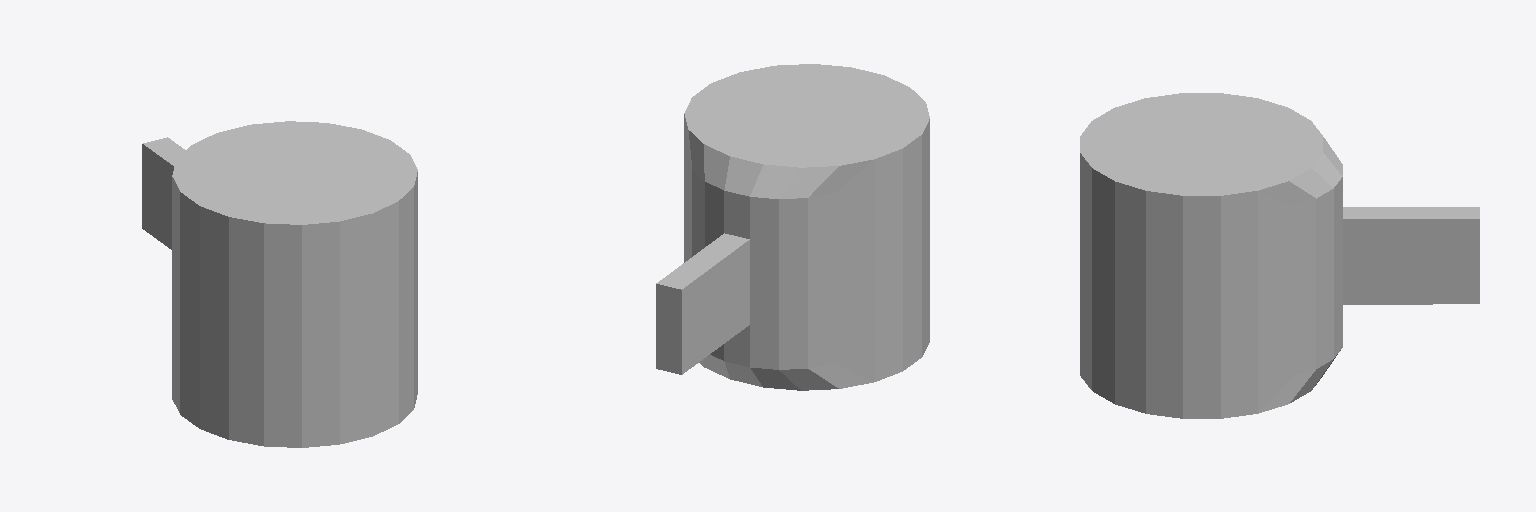
Rendered from Turret.obj.
The picture shows the model from 3 angles: view 1: azimuth 30°, elevation 25°; view 2: azimuth 150°, elevation 25°; view 3: azimuth 270°, elevation 25°; orthographic projection.
Visible parts, largest first — view 1: Cylinder; view 2: Cylinder; view 3: Cylinder.
Part boxes in pixels (x1,y1,x2,y2): Cylinder: (142, 121, 417, 447); Cylinder: (656, 64, 929, 390); Cylinder: (1080, 93, 1479, 418).
Size of the model in its own units: 0.646 by 0.6536 by 1.06.